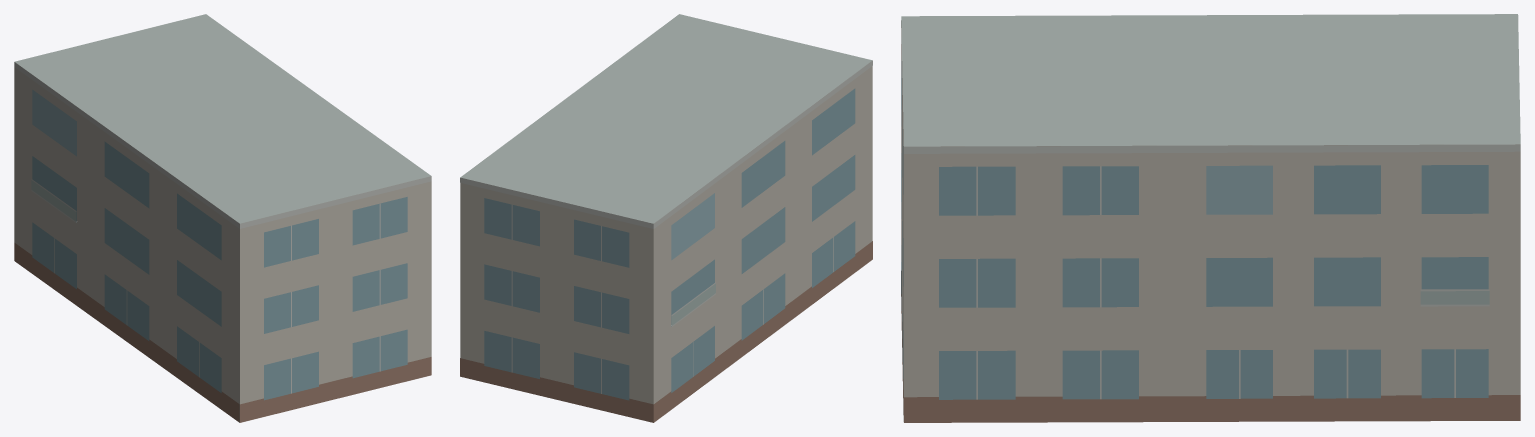
File: survey-upis-32718320.glb
3 views of the same model, side by side, from view 1: azimuth 30°, elevation 25°; view 2: azimuth 150°, elevation 25°; view 3: azimuth 270°, elevation 25° (orthographic). The views are drawn at different scales.
Visible parts, largest first — view 1: survey-upis-32718320.tmp; view 2: survey-upis-32718320.tmp; view 3: survey-upis-32718320.tmp.
Boxes of the visible parts, box(x1,y1,x2,y2) form: survey-upis-32718320.tmp: box(14, 14, 431, 422); survey-upis-32718320.tmp: box(460, 14, 872, 422); survey-upis-32718320.tmp: box(901, 14, 1520, 422).
Bounding box in the file's own units: 9.45 × 9.15 × 18.6.
